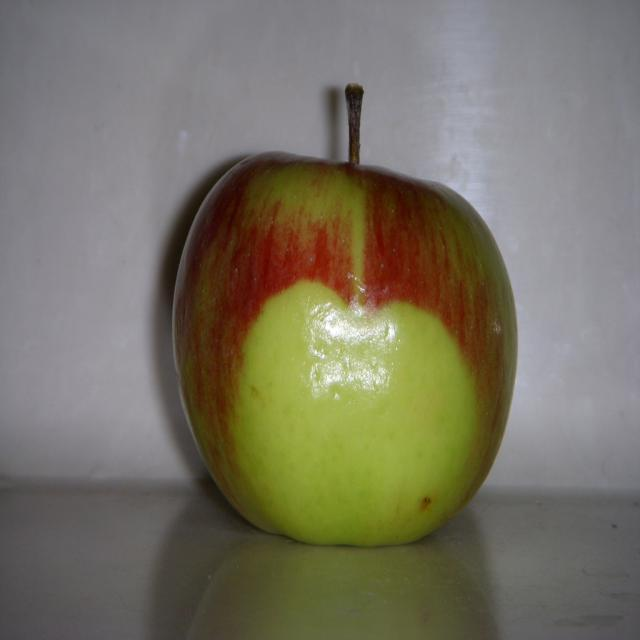Apple: (172, 78, 518, 547)
